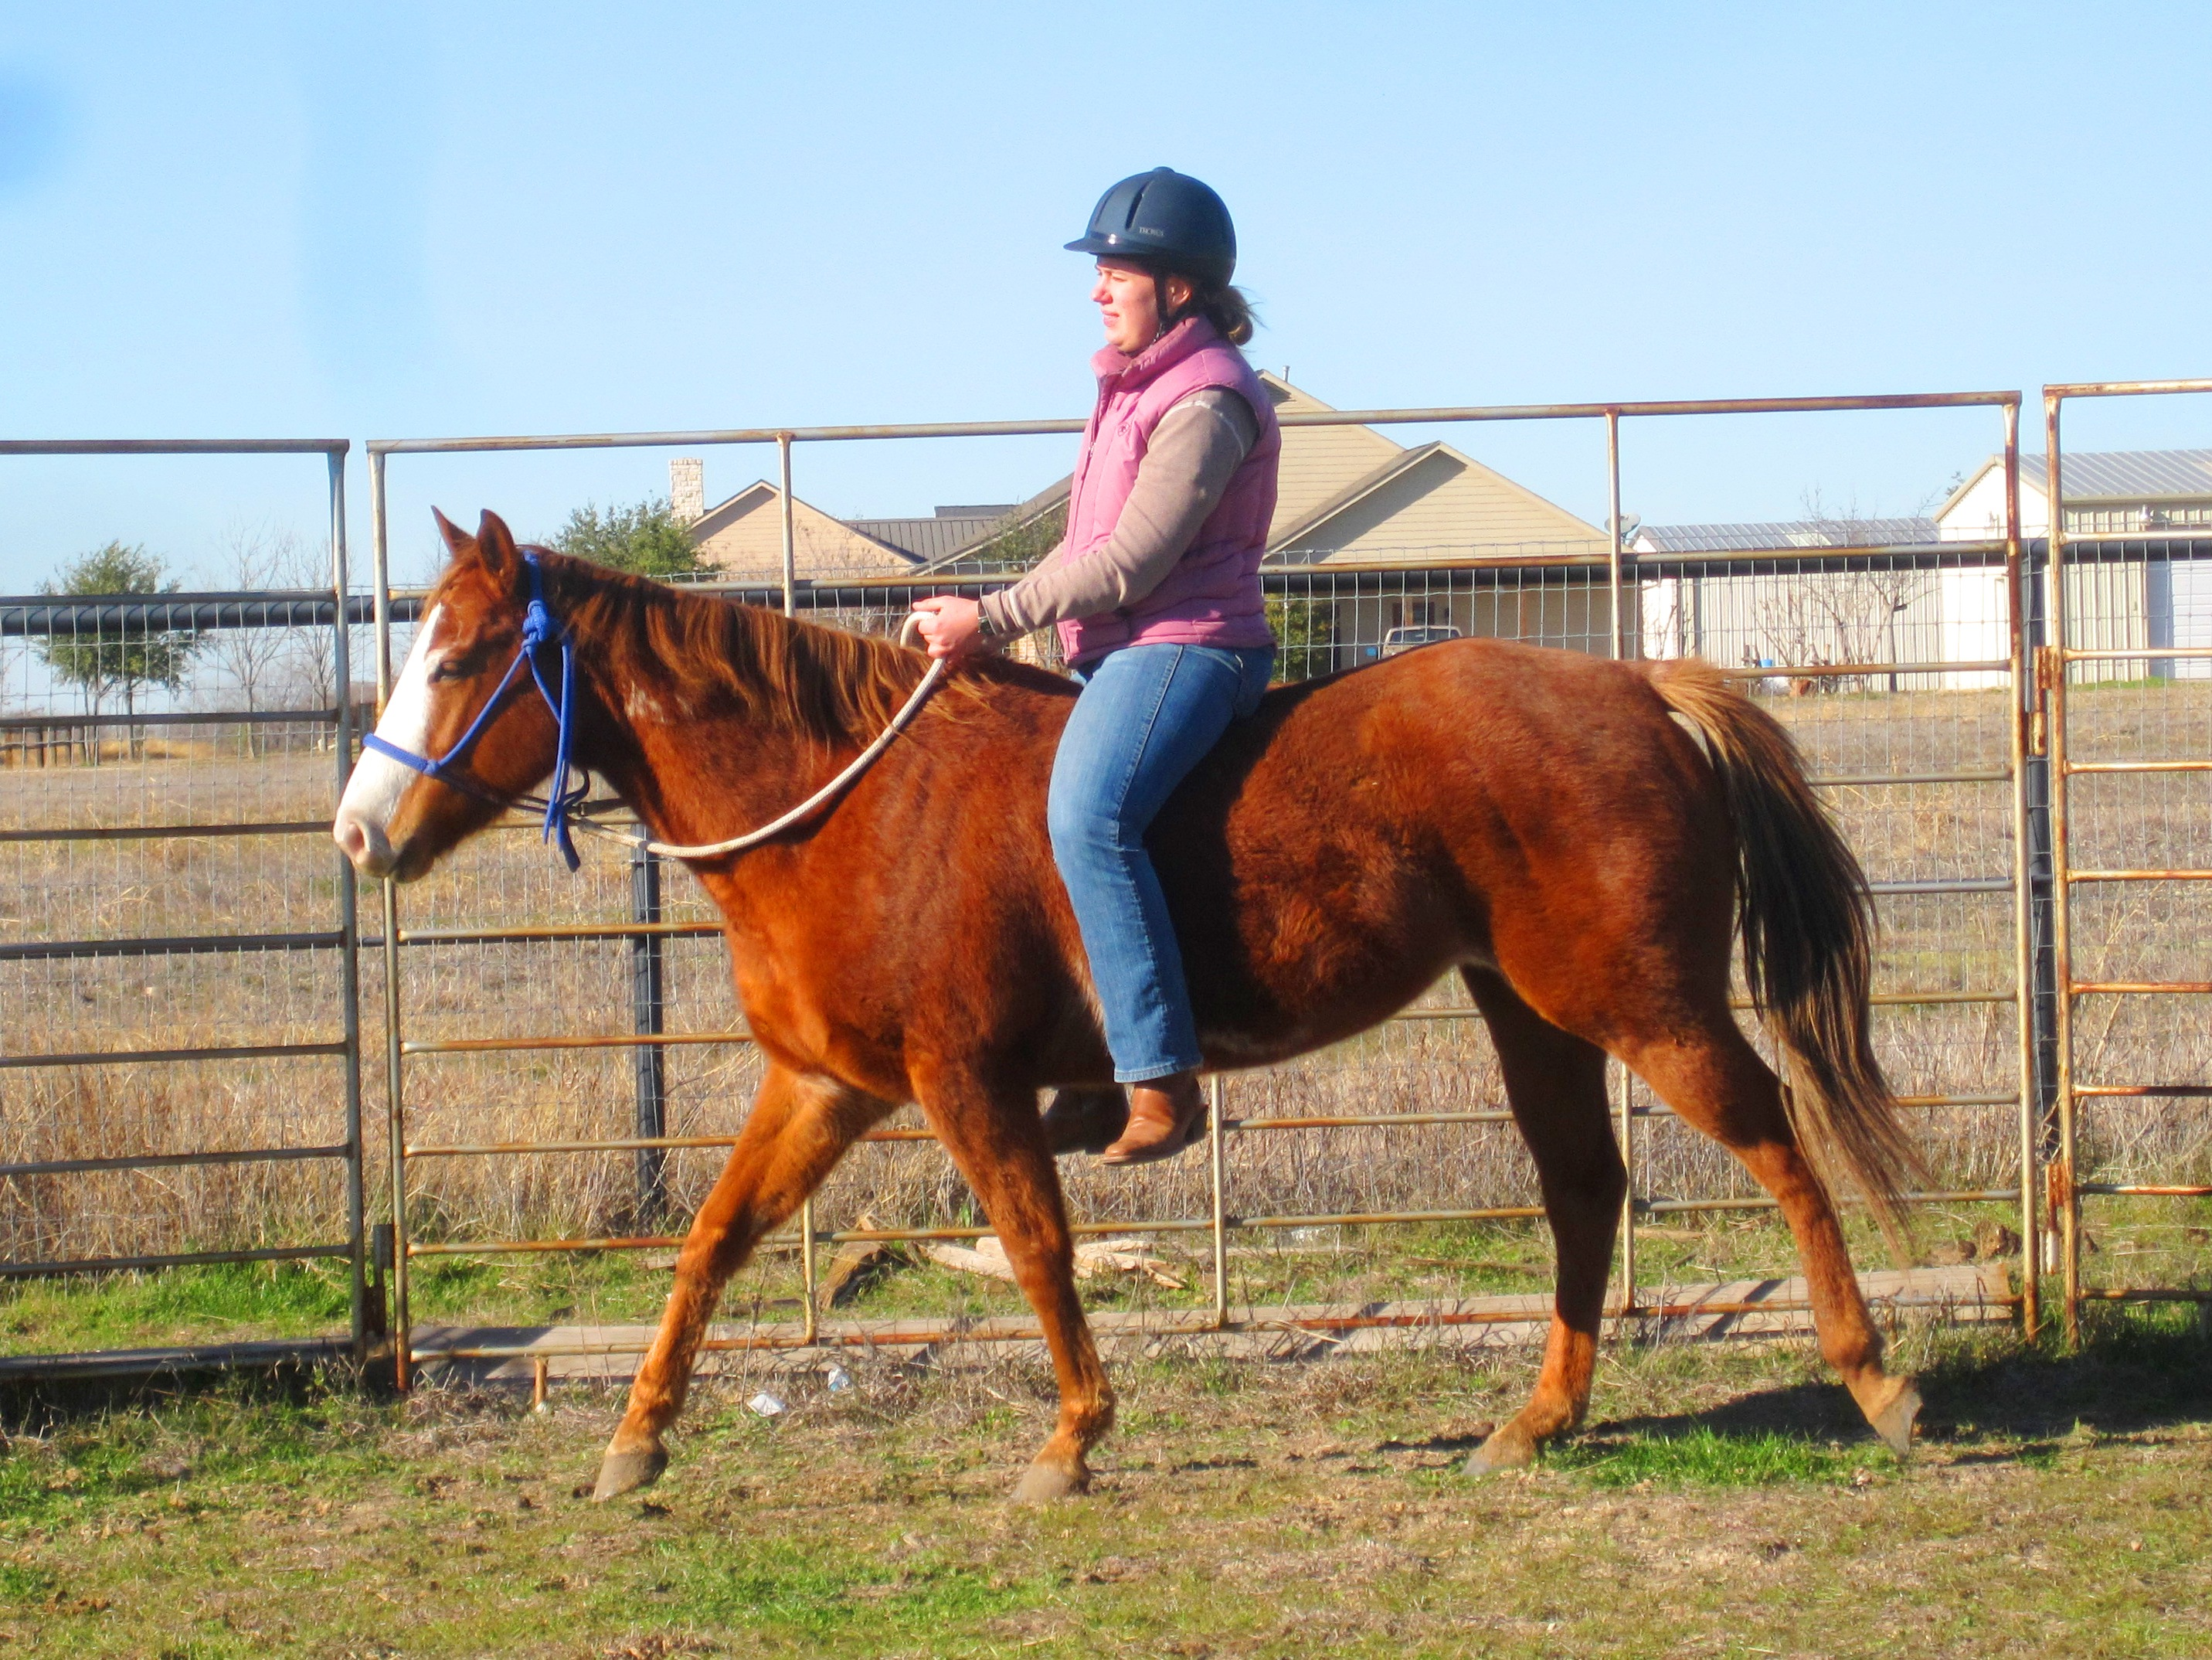Horse: (291, 502, 1985, 1495)
Person: (974, 126, 1344, 1162)
